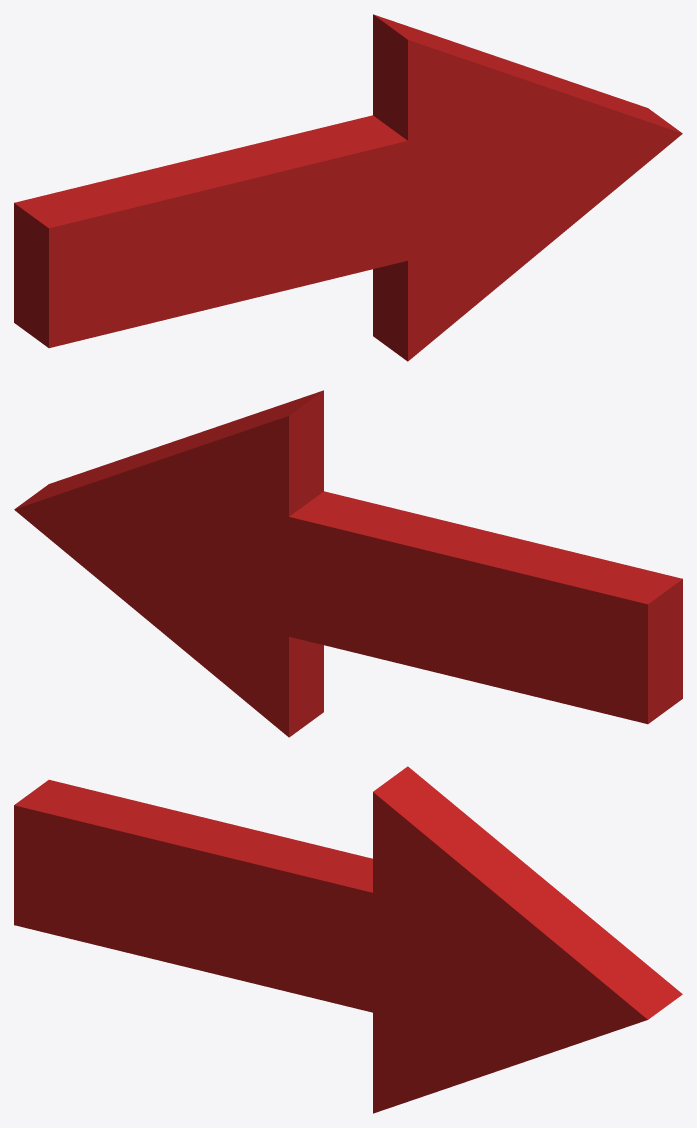
File: arrow.fbx
3 views of the same model, one above another, from view 1: azimuth 30°, elevation 25°; view 2: azimuth 150°, elevation 25°; view 3: azimuth 330°, elevation 25° (orthographic).
Parts seen in each view (by area): view 1: arrow; view 2: arrow; view 3: arrow.
Part boxes in pixels (x1=…): arrow: x1=14, y1=14, x2=682, y2=361; arrow: x1=14, y1=390, x2=682, y2=737; arrow: x1=14, y1=766, x2=682, y2=1113.
Bounding box in the file's own units: 788 × 382 × 75.2.
